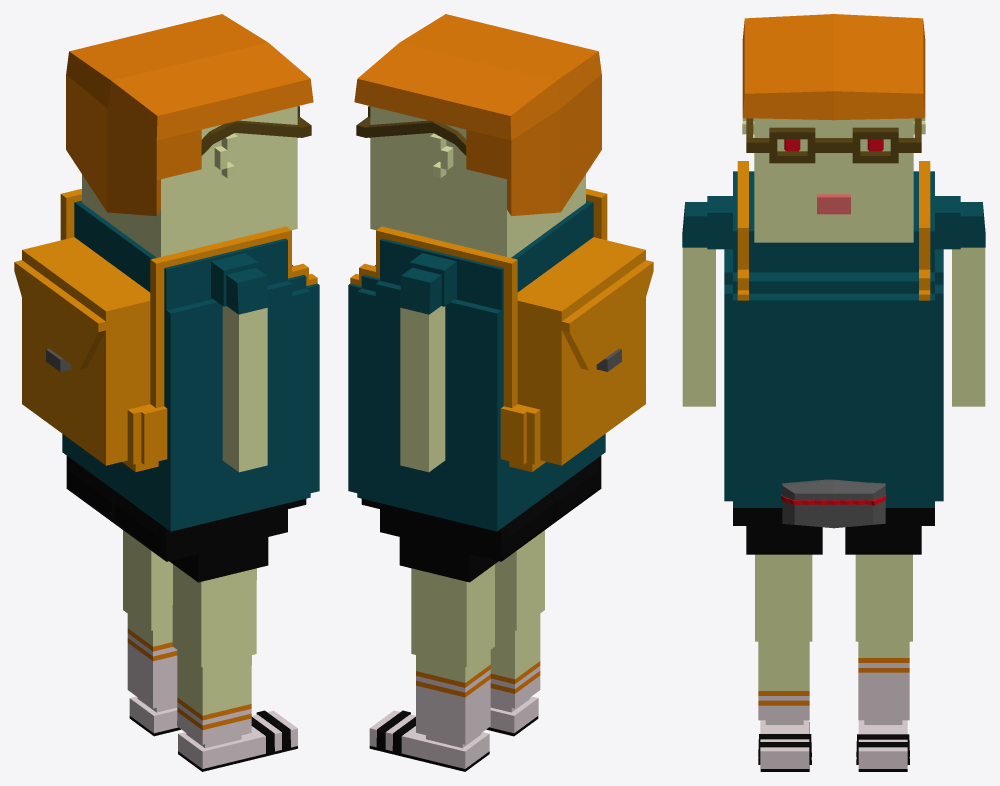
Rendered from Botan.fbx.
3 views of the same model, side by side, from view 1: azimuth 30°, elevation 25°; view 2: azimuth 150°, elevation 25°; view 3: azimuth 270°, elevation 25° (orthographic).
Visible parts, largest first — view 1: Character, Cube.013, head.001, head, Cube.010, Cube.001, Cube.007, Cube.005, Cube.004, Cube.008, RightLeg, Cube.009 (+4 smaller); view 2: Character, Cube.013, head.001, head, Cube.003, Cube.004, Cube.005, Cube.007, Cube.001, Cube.006, LeftLeg, Cube.002 (+4 smaller); view 3: Character, head.001, head, Cube.003, Cube.010, Cube.004, Cube.001, Cube, Glasses, Cube.005, Cube.007, Cube.013 (+10 smaller).
Part boxes in pixels (x1,y1,x2,y2): Character: [62, 200, 319, 561]; Cube.013: [14, 188, 317, 471]; head.001: [66, 14, 313, 216]; head: [82, 106, 297, 257]; Cube.010: [222, 306, 267, 472]; Cube.001: [172, 564, 256, 667]; Cube.007: [177, 650, 251, 744]; Cube.005: [127, 614, 177, 708]; Cube.004: [123, 530, 172, 630]; Cube.008: [178, 710, 297, 768]; RightLeg: [169, 537, 268, 582]; Cube.009: [226, 267, 267, 314]; Character: [348, 200, 605, 561]; Cube.013: [350, 188, 653, 471]; head.001: [354, 14, 601, 216]; head: [370, 106, 585, 257]; Cube.003: [400, 306, 445, 472]; Cube.004: [411, 564, 494, 667]; Cube.005: [416, 650, 490, 744]; Cube.007: [490, 614, 540, 708]; Cube.001: [495, 530, 544, 630]; Cube.006: [369, 710, 489, 768]; LeftLeg: [399, 537, 498, 582]; Cube.002: [400, 267, 441, 314]; Character: [724, 171, 943, 525]; head.001: [742, 14, 925, 120]; head: [742, 118, 925, 242]; Cube.003: [952, 247, 985, 406]; Cube.010: [682, 247, 715, 406]; Cube.004: [855, 554, 912, 641]; Cube.001: [755, 554, 812, 641]; Cube: [781, 479, 886, 528]; Glasses: [746, 118, 921, 163]; Cube.005: [858, 641, 909, 720]; Cube.007: [758, 641, 809, 720]; Cube.013: [737, 161, 930, 300].
Size of the model in its own units: 268 by 748 by 301.
